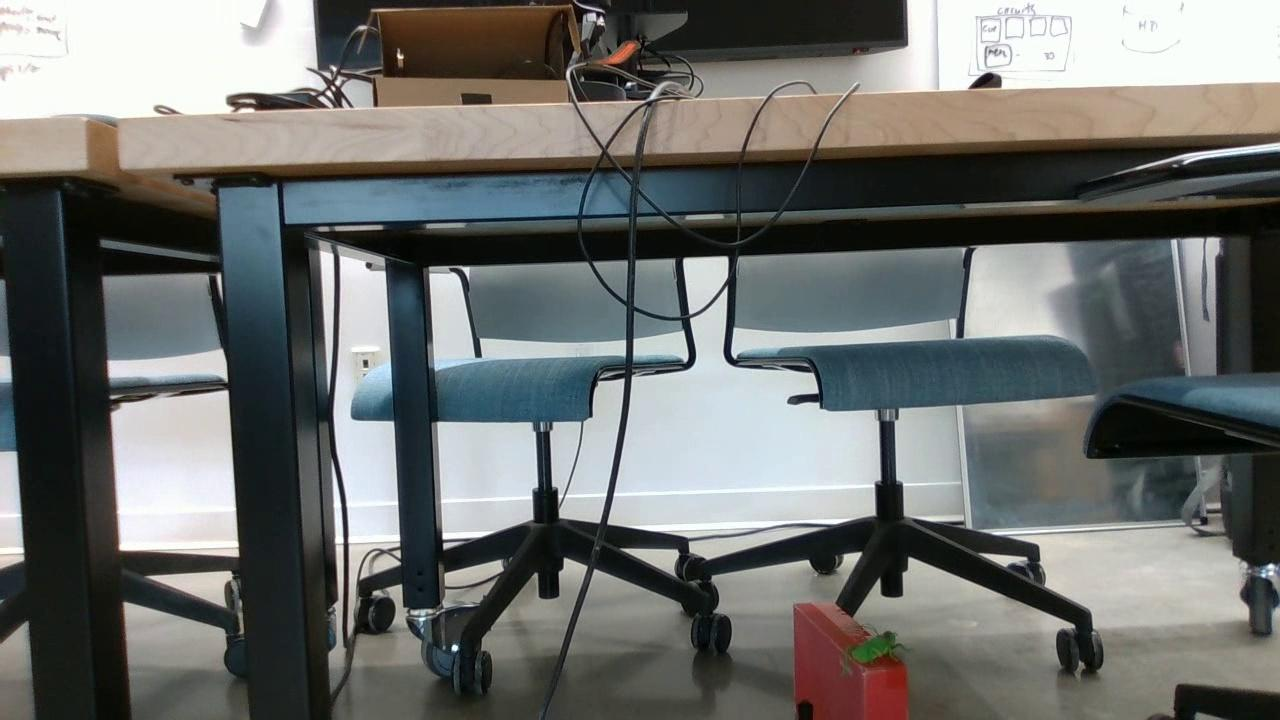grasshopper: (842, 628, 908, 667)
